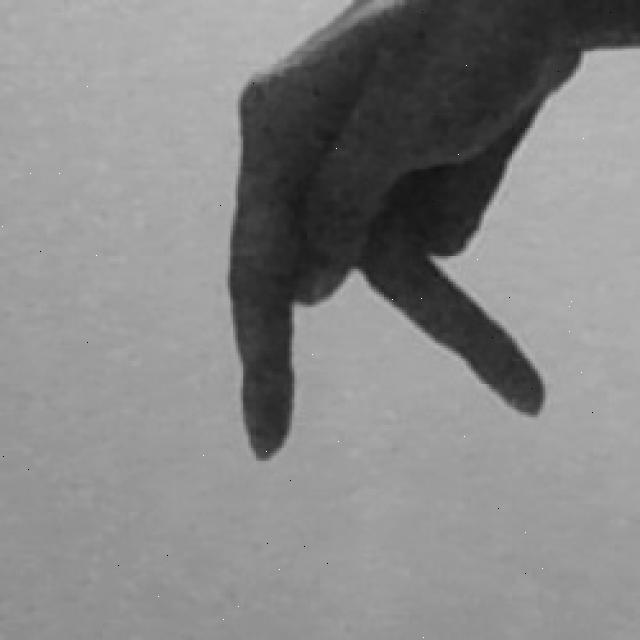P: (217, 0, 640, 471)
